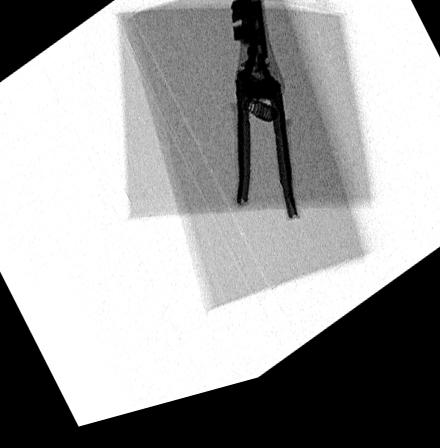Pliers: (228, 4, 300, 233)
